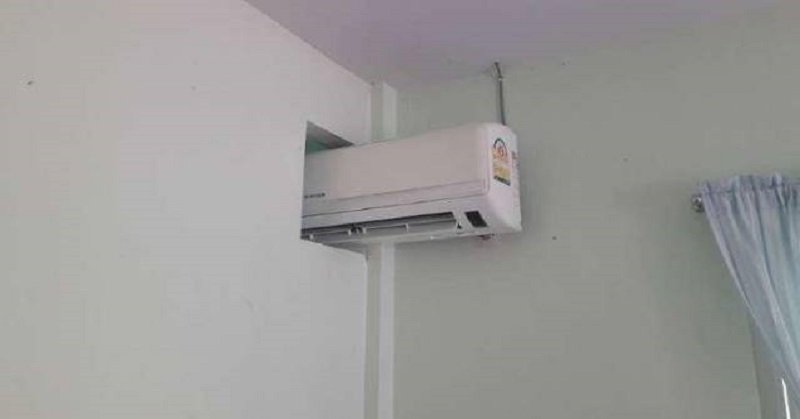AC: (303, 133, 516, 251)
